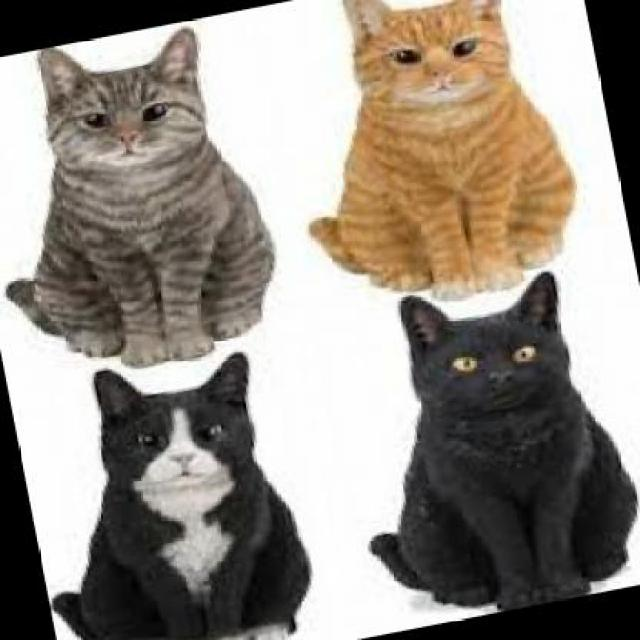animals: (324, 255, 638, 632), (258, 0, 600, 322), (0, 16, 282, 390), (23, 334, 352, 638)
